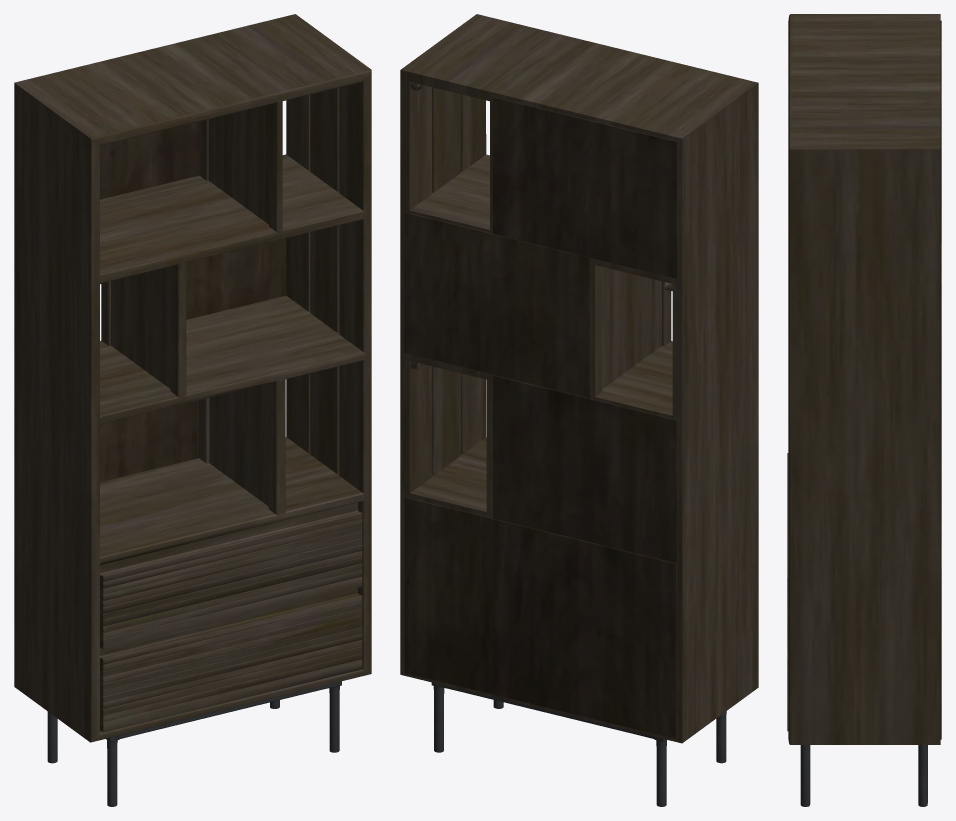
The model's file is B07HSMYNYJ.glb.
The picture shows the model from 3 angles, left to right: view 1: azimuth 30°, elevation 25°; view 2: azimuth 150°, elevation 25°; view 3: azimuth 270°, elevation 25°; orthographic projection.
Parts seen in each view (by area): view 1: RootNode; view 2: RootNode; view 3: RootNode.
Boxes of the visible parts, box(x1,y1,x2,y2) form: RootNode: box(14, 14, 371, 806); RootNode: box(400, 14, 758, 806); RootNode: box(787, 14, 941, 806).
Size of the model in its own units: 0.6695 by 1.54 by 0.3226.
1 material, 1 textured.
